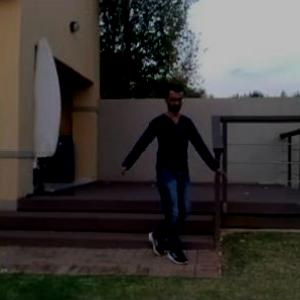land: (113, 92, 219, 266)
